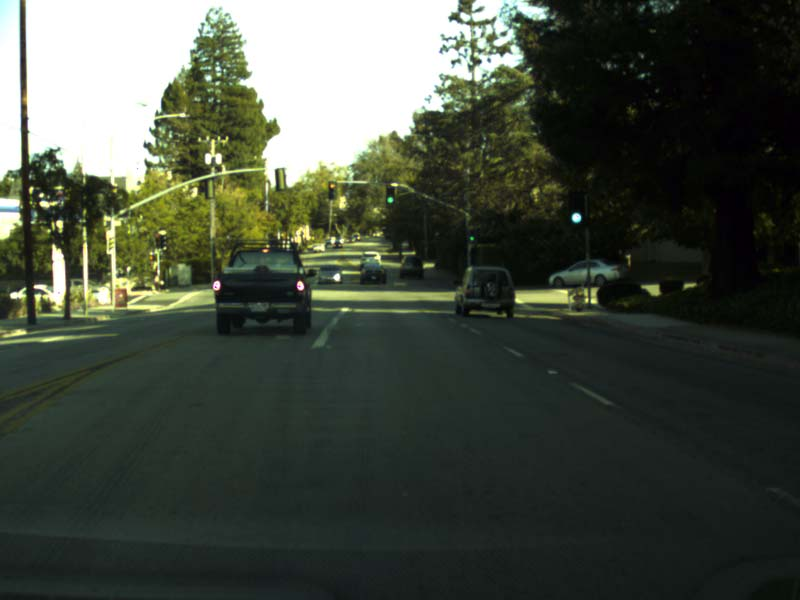Green: (569, 193, 582, 224), (387, 186, 393, 204), (162, 235, 167, 251), (469, 229, 474, 241)
Red: (328, 182, 335, 198), (155, 234, 160, 247)
